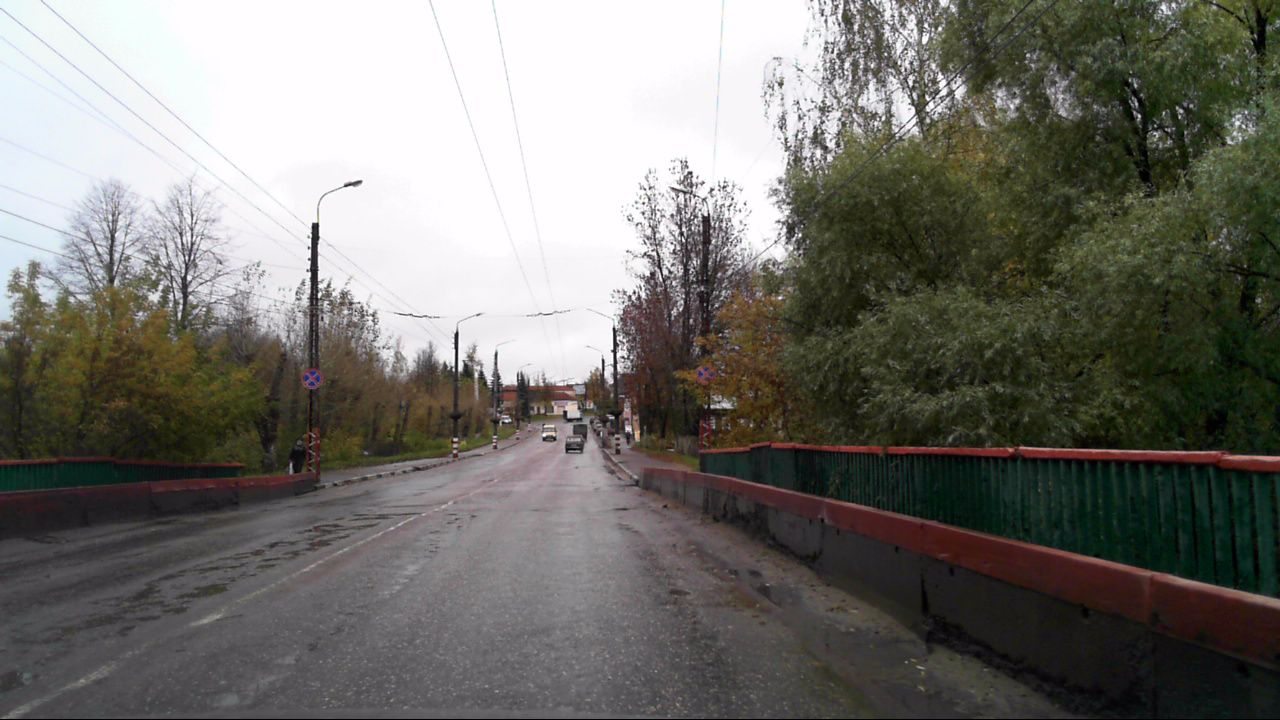No Parking: (691, 364, 715, 390)
